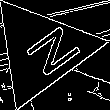N_SW: (8, 19, 77, 82)
